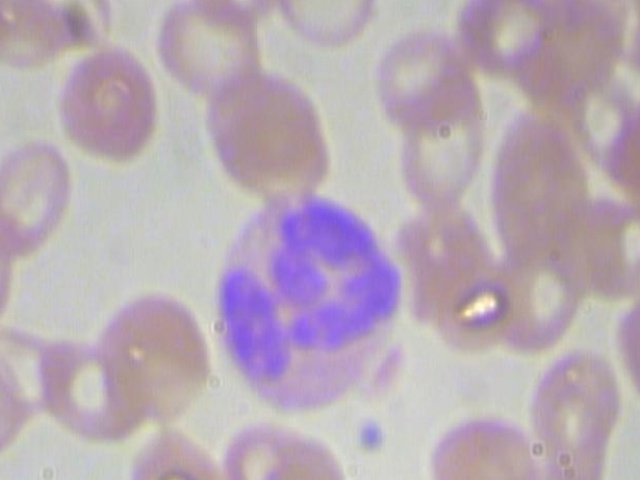Platelets: (353, 408, 391, 459)
RBC: (204, 64, 341, 202), (489, 107, 598, 275), (89, 286, 214, 430), (383, 78, 492, 218), (49, 43, 165, 163), (364, 15, 479, 134), (151, 0, 265, 107), (524, 341, 621, 459), (426, 397, 542, 480), (0, 128, 71, 255), (216, 419, 350, 480), (115, 428, 230, 480), (268, 0, 383, 46), (174, 0, 294, 31)
WBC: (190, 178, 409, 417)
